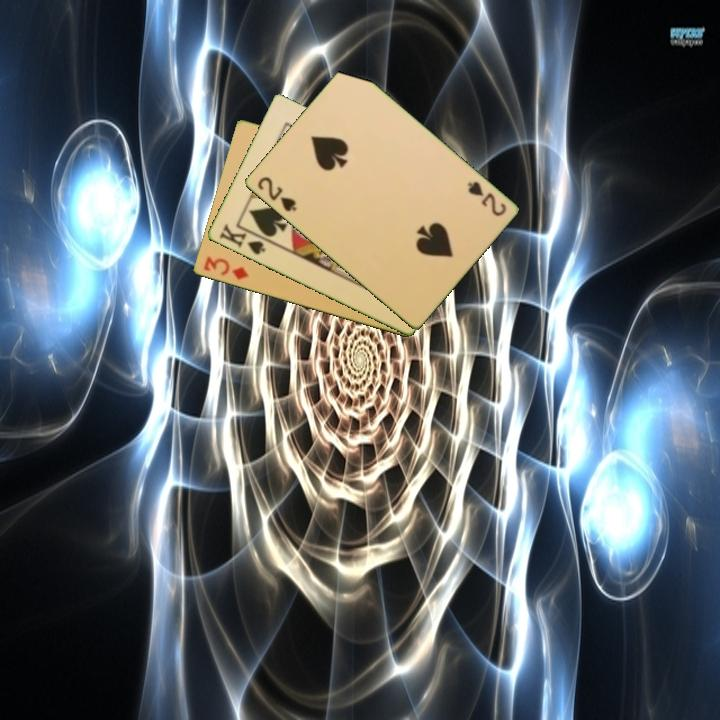2s: (254, 173, 300, 215), (463, 178, 509, 219)
3d: (200, 253, 252, 283)
Ks: (215, 220, 271, 258)
